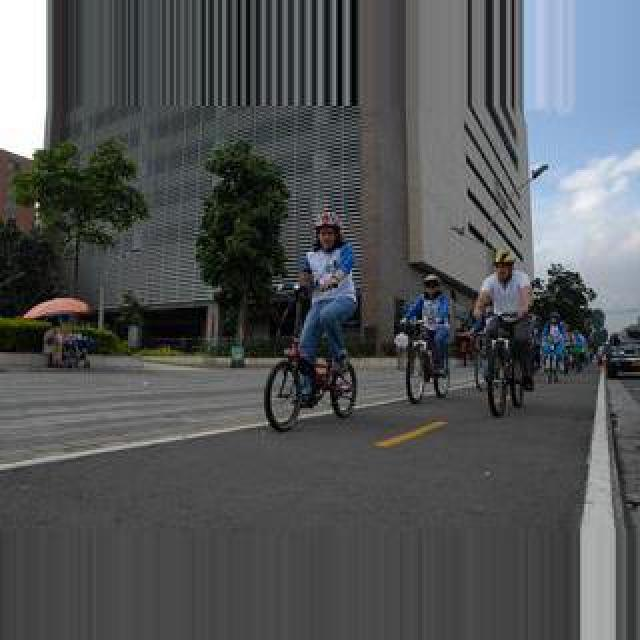Bus-Bike: (606, 338, 640, 378)
MC-Bike: (294, 212, 358, 400), (468, 250, 536, 394), (406, 276, 452, 382)
Person: (264, 320, 358, 434), (482, 324, 526, 418), (406, 328, 452, 402)
